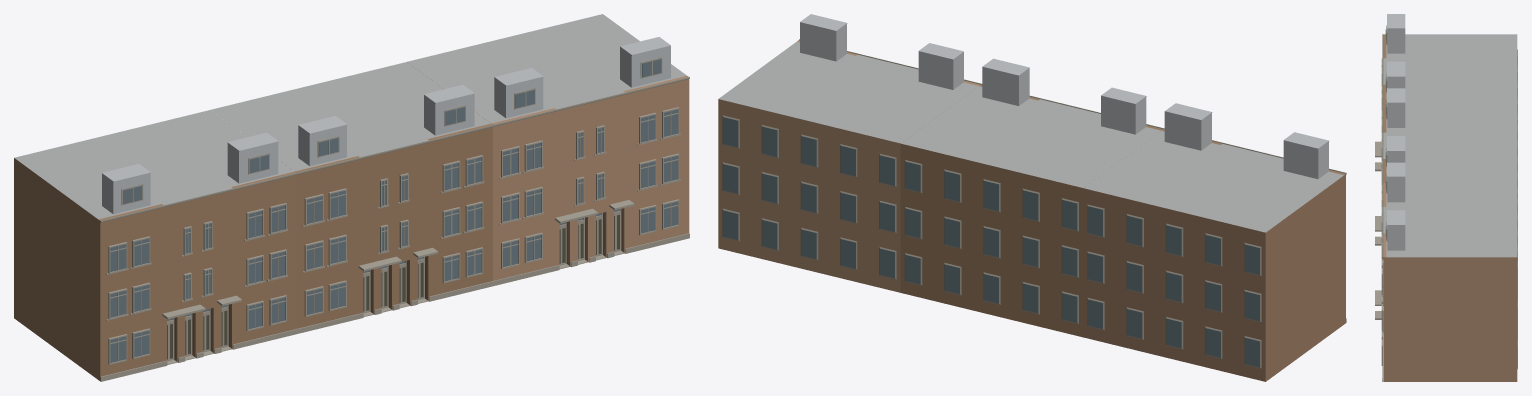
File: chunk-face-callenburg-2-32-r2.glb
3 renders of one model, left to right at view 1: azimuth 30°, elevation 25°; view 2: azimuth 150°, elevation 25°; view 3: azimuth 270°, elevation 25°, orthographic. The views are drawn at different scales.
Visible parts, largest first — view 1: face-callenburg-2-32-r2; view 2: face-callenburg-2-32-r2; view 3: face-callenburg-2-32-r2.
Boxes of the visible parts, box(x1,y1,x2,y2) form: face-callenburg-2-32-r2: box(14, 14, 689, 381); face-callenburg-2-32-r2: box(718, 14, 1346, 381); face-callenburg-2-32-r2: box(1375, 14, 1517, 381).
Bounding box in the file's own units: 38.42 × 12.13 × 10.39.
